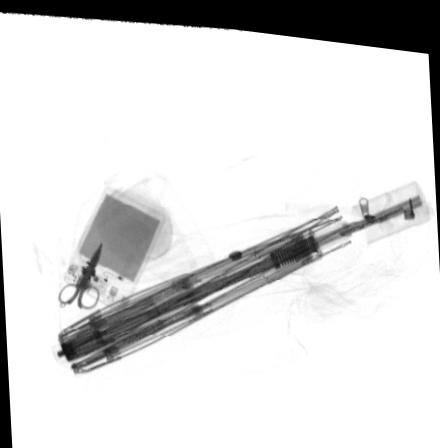Powerbank: (58, 182, 165, 312)
Scissors: (58, 236, 103, 310)
